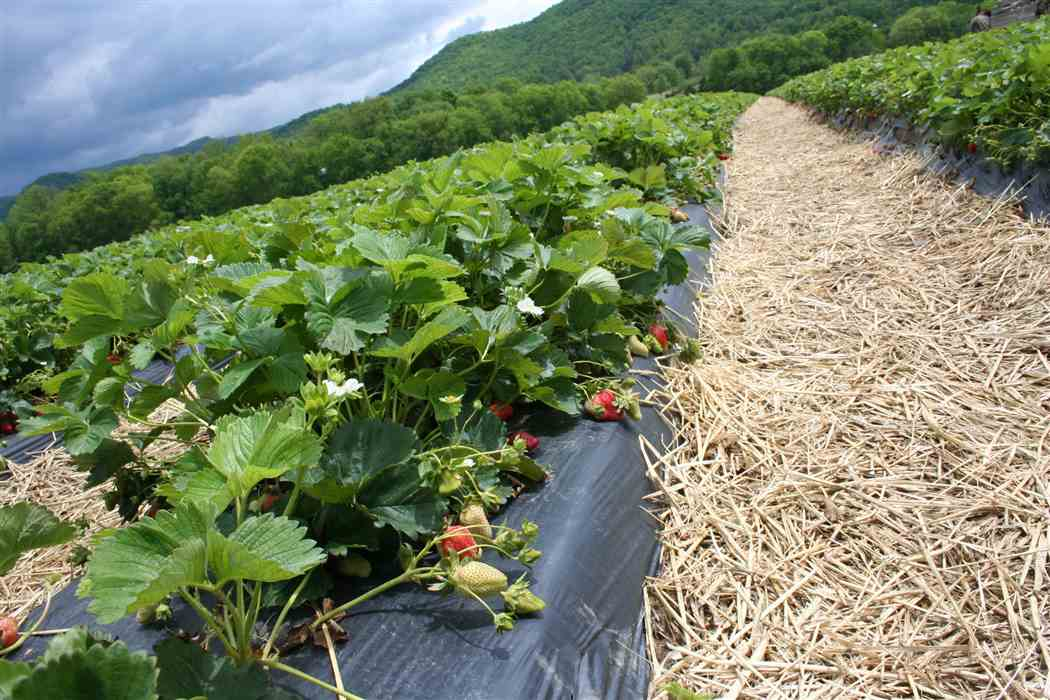ripe_strawberry: (437, 524, 480, 560), (586, 389, 626, 423), (509, 430, 543, 451), (487, 402, 516, 421), (650, 324, 670, 343)
unripe_strawberry: (455, 560, 505, 602), (503, 582, 547, 617), (460, 502, 494, 539), (614, 391, 646, 422), (495, 529, 527, 556), (643, 333, 664, 356), (684, 339, 704, 361), (519, 547, 542, 565), (493, 614, 515, 631), (521, 521, 539, 538), (586, 402, 605, 418), (669, 210, 689, 225)
